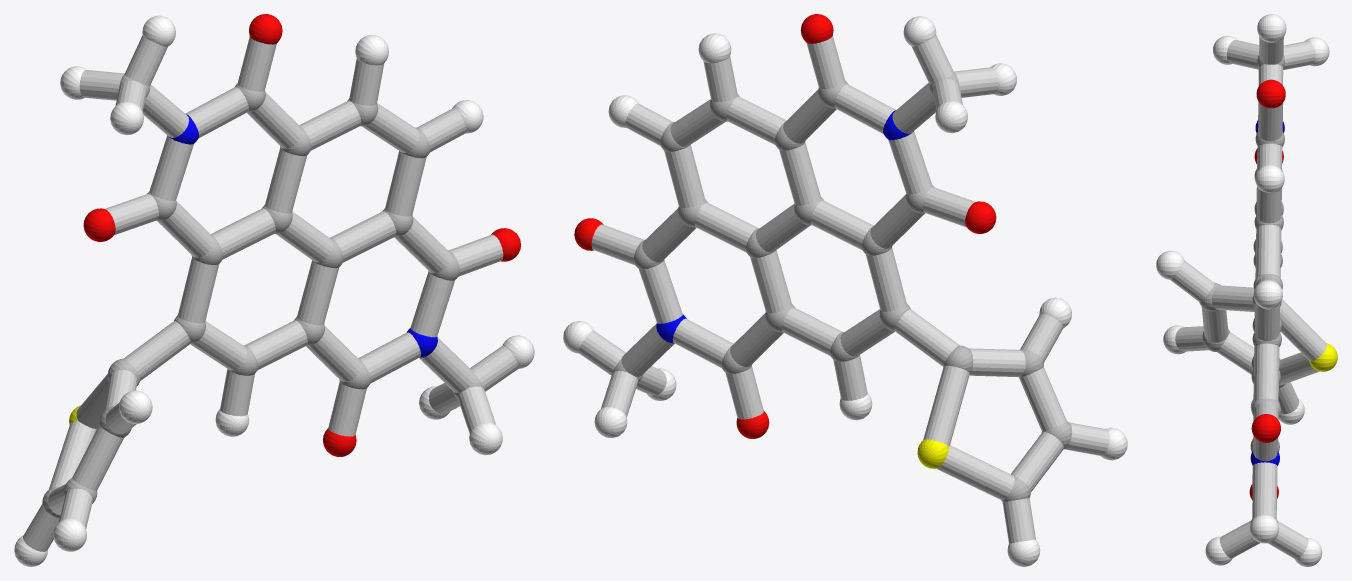
File: Dimethyl_Naphthalene_Dicarboximide_Phi_30_Theta_300_Thiophene.glb
3 renders of one model, left to right at view 1: azimuth 30°, elevation 25°; view 2: azimuth 150°, elevation 25°; view 3: azimuth 270°, elevation 25°, orthographic. The views are drawn at different scales.
Visible parts, largest first — view 1: grp14119, grp7241, grp1, grp12309, grp11585; view 2: grp14119, grp7241, grp1, grp12309, grp11585, grp13757; view 3: grp14119, grp7241, grp1, grp12309, grp13757, grp11585.
Part boxes in pixels (x1,y1,x2,y2): grp14119: (23,35,518,551); grp7241: (14,15,534,566); grp1: (42,74,483,518); grp12309: (83,14,520,456); grp11585: (167,114,437,357); grp14119: (578,35,1109,543); grp7241: (563,16,1127,566); grp1: (612,72,1072,502); grp12309: (574,14,996,438); grp11585: (656,110,913,343); grp13757: (917,439,948,468); grp14119: (1170,36,1326,559); grp7241: (1156,14,1329,566); grp1: (1199,54,1284,523); grp12309: (1249,79,1285,500); grp13757: (1309,343,1337,371); grp11585: (1250,120,1284,465).
Size of the model in its own units: 10.8 by 10.34 by 3.72.
